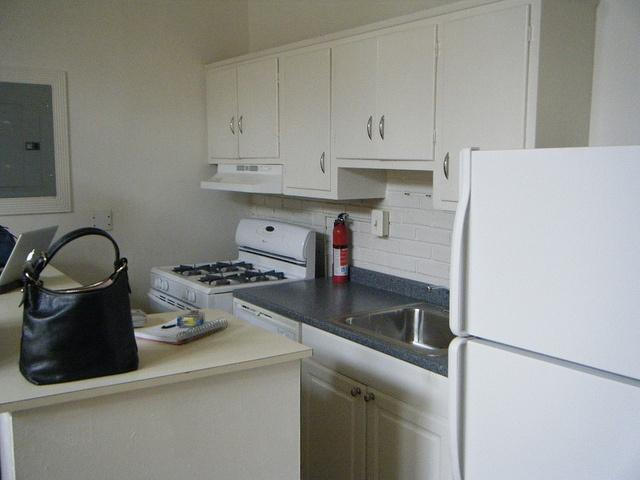APAR: (330, 210, 349, 283)
Lemari: (206, 0, 539, 212)
